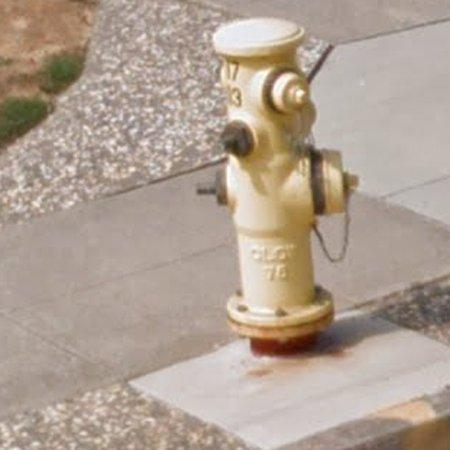a fire hydrant: (214, 18, 358, 354)
